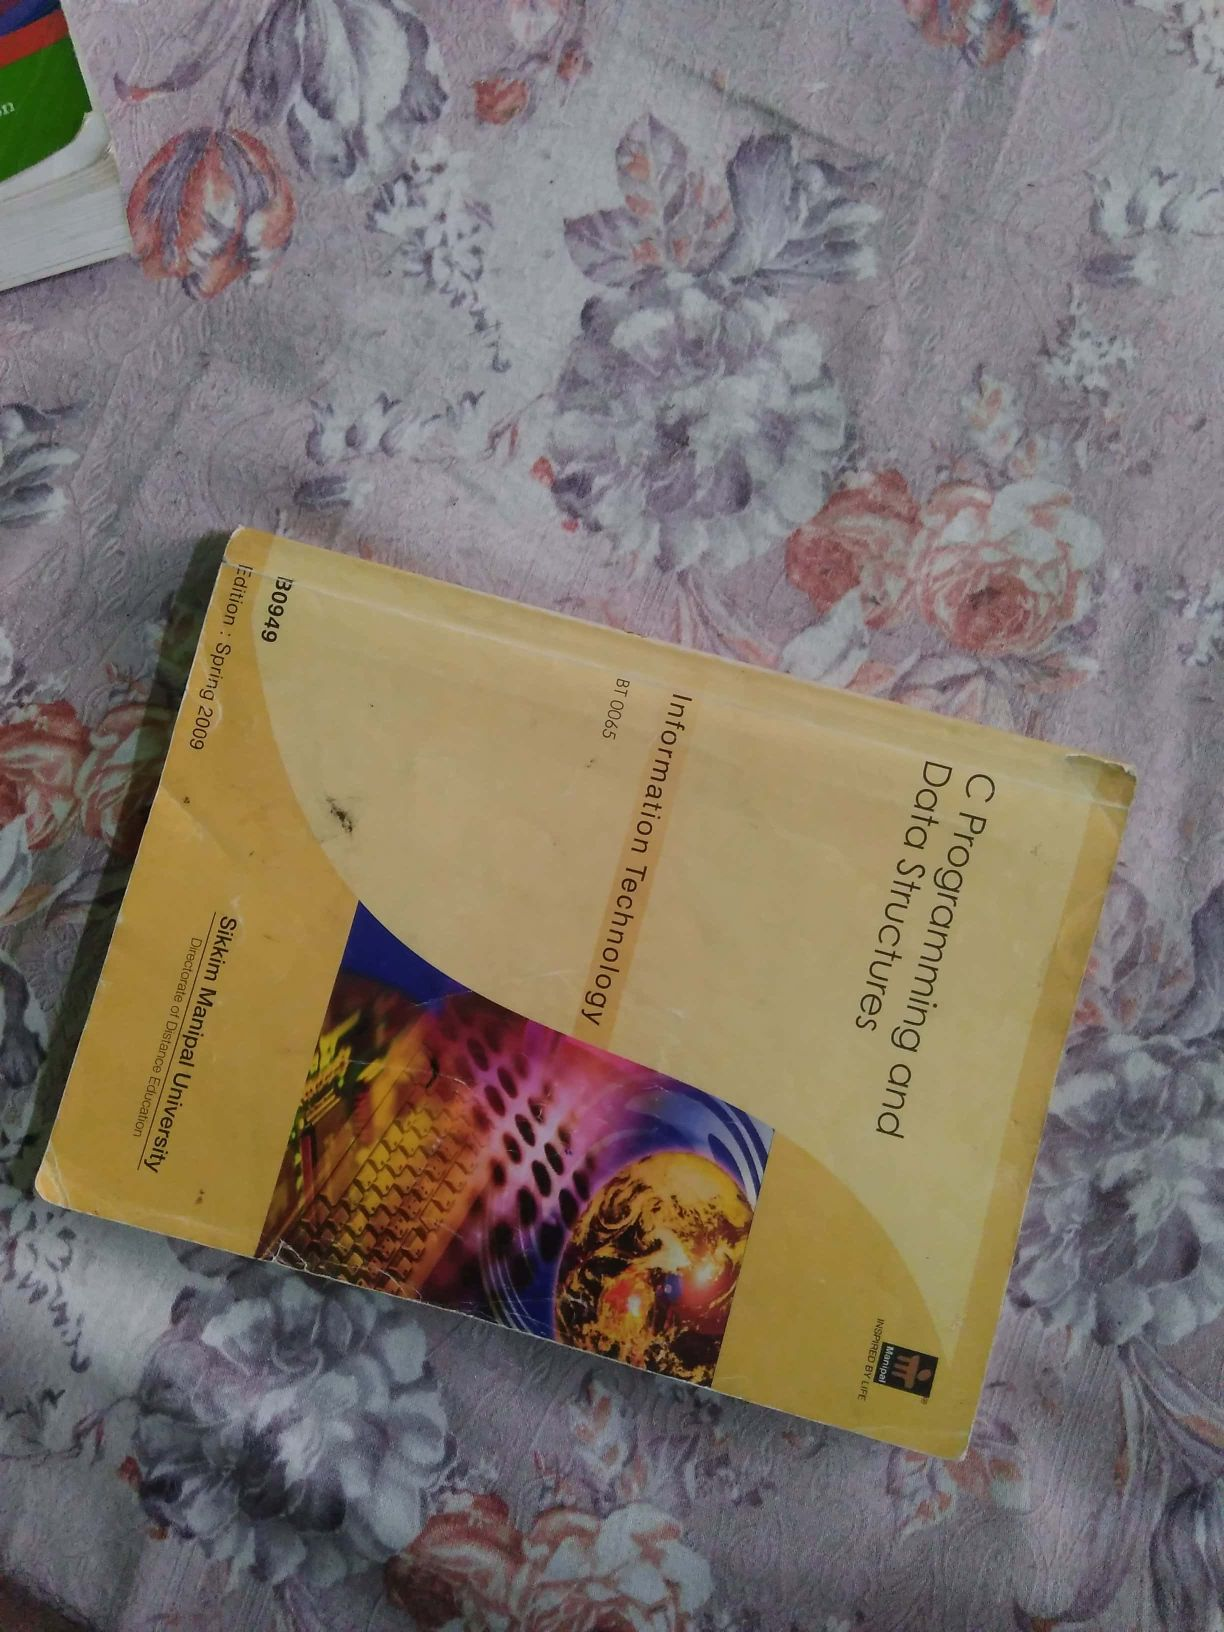clang: (75, 531, 1128, 1470)
